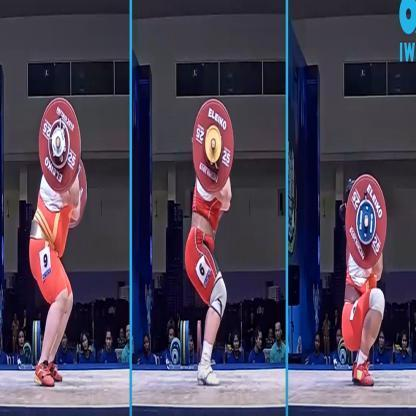barbell: (37, 95, 90, 219), (190, 97, 236, 196), (344, 172, 388, 272)
